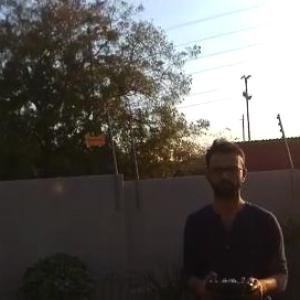follow: (178, 130, 294, 299)
